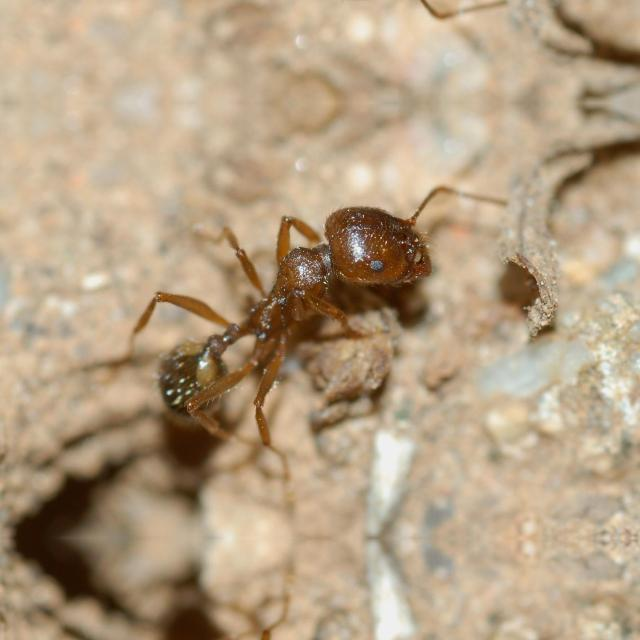Messor: (140, 199, 438, 451)
